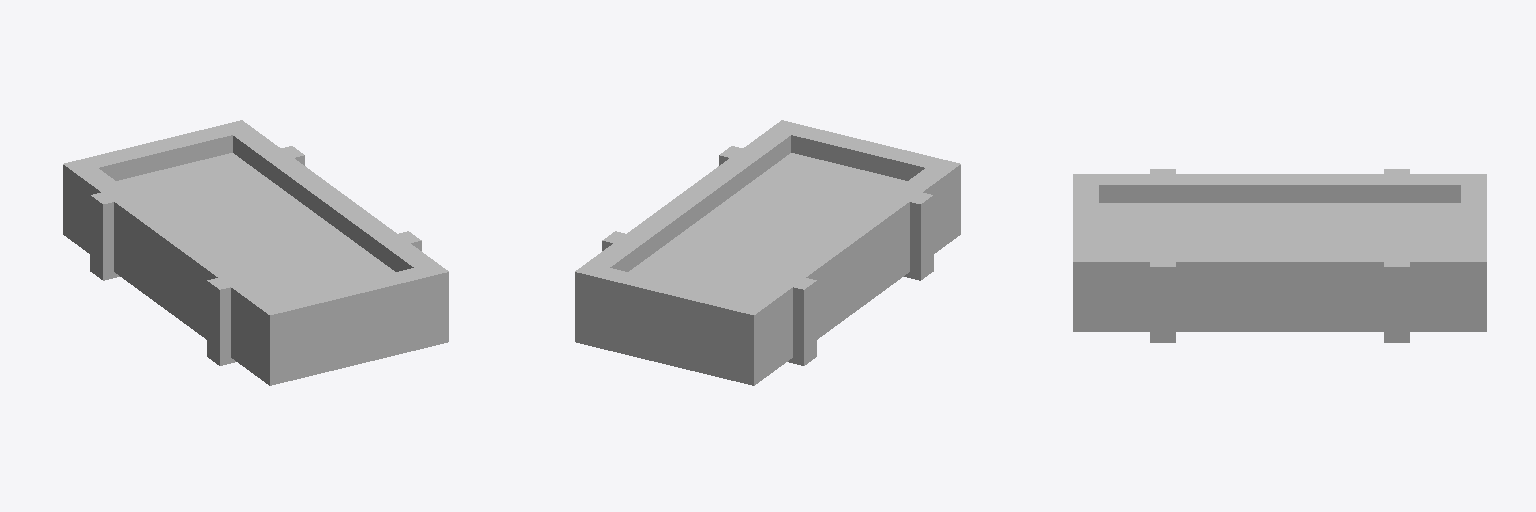
File: guncase_open.obj
The picture shows the model from 3 angles: view 1: azimuth 30°, elevation 25°; view 2: azimuth 150°, elevation 25°; view 3: azimuth 270°, elevation 25°; orthographic projection.
Visible parts, largest first — view 1: crate2; view 2: crate2; view 3: crate2.
Boxes of the visible parts, <box> form: crate2: <box>63,120,448,385</box>; crate2: <box>575,120,960,385</box>; crate2: <box>1073,169,1486,342</box>.
Bounding box in the file's own units: 36 × 13 × 64.